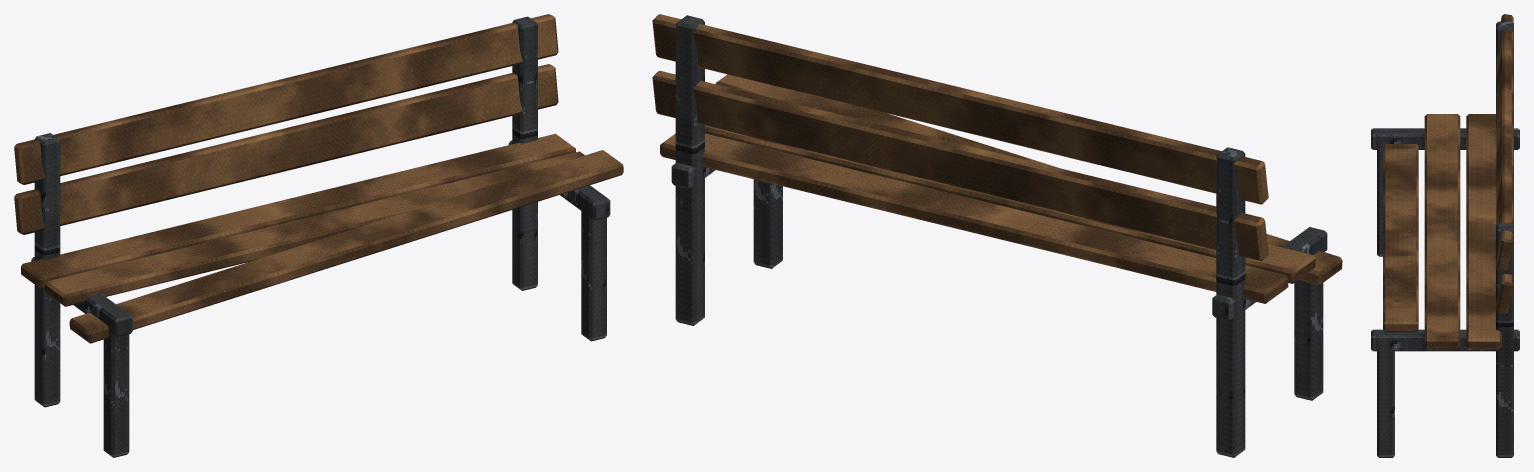
File: prop_bench.glb
3 renders of one model, left to right at view 1: azimuth 30°, elevation 25°; view 2: azimuth 150°, elevation 25°; view 3: azimuth 270°, elevation 25°, orthographic. The views are drawn at different scales.
Visible parts, largest first — view 1: prop_bench_mesh; view 2: prop_bench_mesh; view 3: prop_bench_mesh.
Part boxes in pixels (x1=…): prop_bench_mesh: x1=14, y1=14, x2=623, y2=457; prop_bench_mesh: x1=652, y1=14, x2=1342, y2=457; prop_bench_mesh: x1=1371, y1=14, x2=1519, y2=457.
Bounding box in the file's own units: 1.8 × 0.85 × 0.5.
2 materials, 2 textured.
